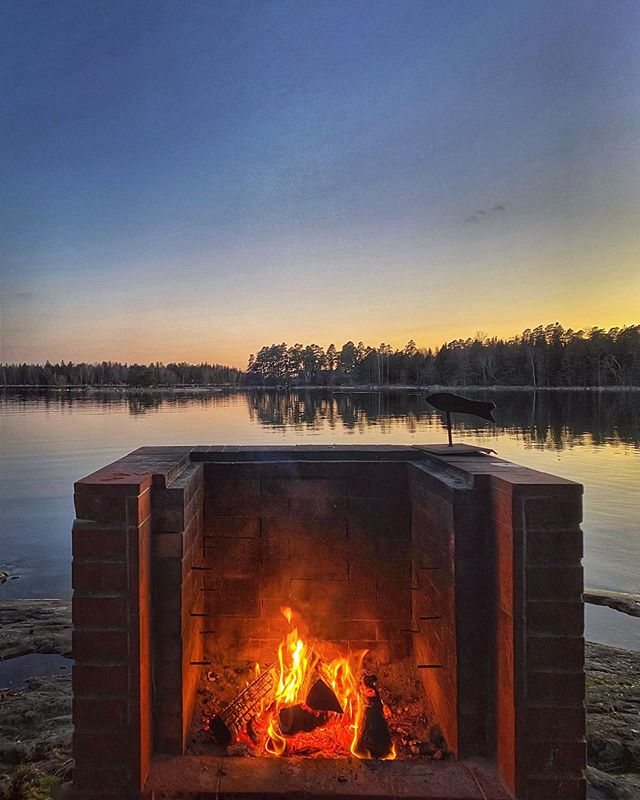fireplace: (171, 570, 416, 772)
river: (1, 402, 634, 569)
sky: (1, 1, 640, 327)
vegetation: (1, 335, 634, 399)
